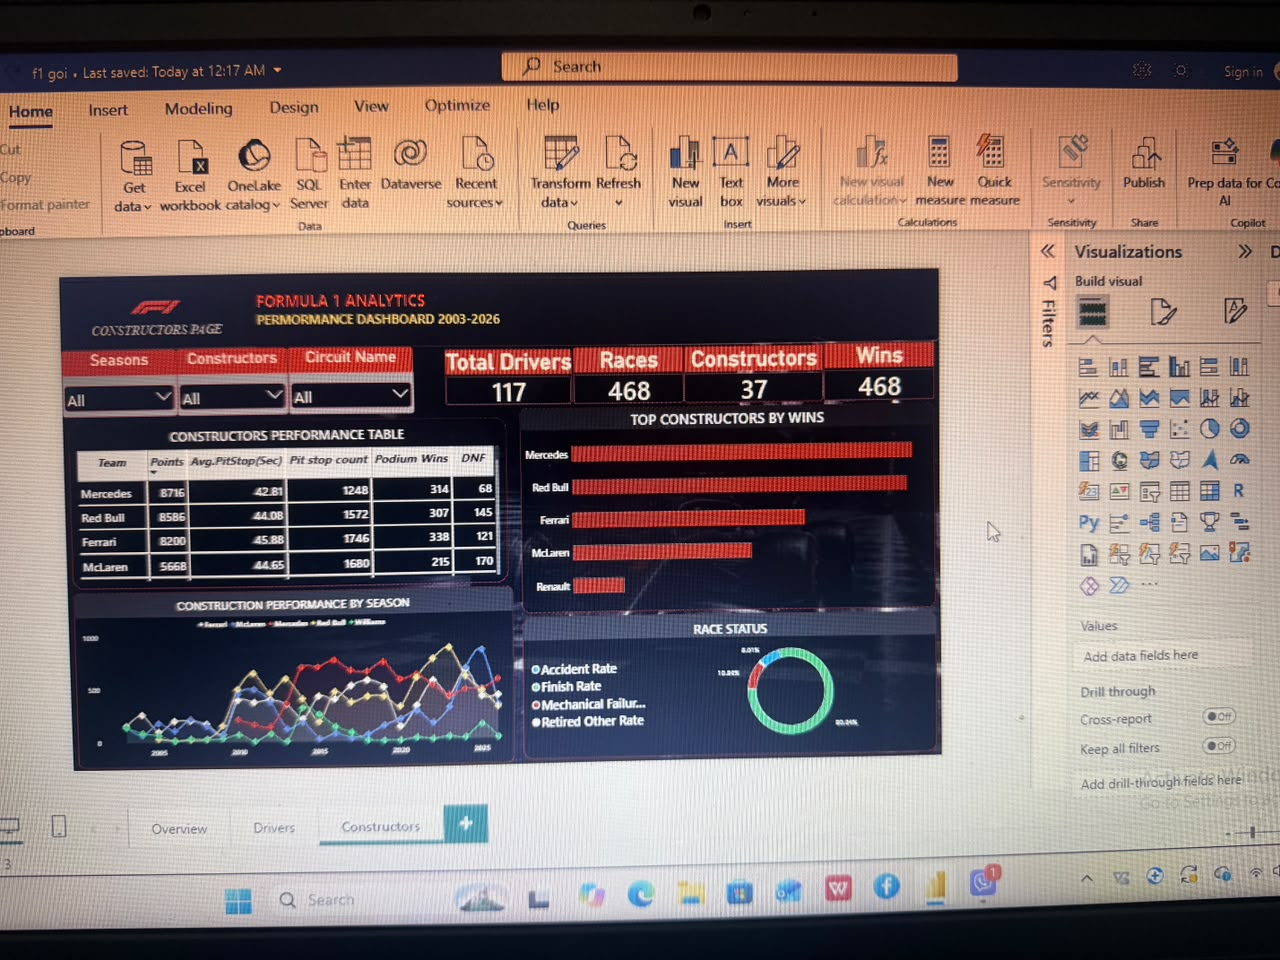

This screenshot's page, from the dashboard's own definition file:
{"tool":"powerbi","page":{"name":"Constructors","canvas":[1920,1080],"ordinal":2},"visuals":[{"type":"textbox","box":[0,10.8,1920.2,149],"z":0},{"type":"image","box":[25.9,0,369.4,164.2],"z":1000},{"type":"textbox","box":[58.3,101.5,306.7,62.6],"z":2000},{"type":"clusteredBarChart","title":"TOP CONSTRUCTORS BY WINS","fields":{"Category":["f1_main.constructor_name"],"Y":["f1_main.Total Wins"]},"box":[990,295,920,455],"z":3000},{"type":"slicer","title":"Seasons","fields":{"Values":["f1_main.season"]},"box":[0,159.8,252.7,144.7],"z":4000},{"type":"slicer","title":"Constructors","fields":{"Values":["f1_main.constructor_name"]},"box":[252.7,159.8,241.9,144.7],"z":5000},{"type":"shape","box":[394.7,21.1,1526.3,126.3],"z":7000},{"type":"textbox","box":[428.9,36.8,802.5,122.5],"z":8000},{"type":"cardVisual","title":"Races","fields":{"Data":["Count(f1_main.race_date)"]},"box":[1110,162.5,245,125],"z":9000},{"type":"cardVisual","title":"Total Drivers","fields":{"Data":["Count(f1_main.driver_name)"]},"box":[830,165,277.5,122.5],"z":10000},{"type":"cardVisual","title":" Constructors","fields":{"Data":["Count(f1_main.constructor_name)"]},"box":[1356,162,310,126],"z":11000},{"type":"cardVisual","title":"Wins","fields":{"Data":["Sum(f1_main.is_win)"]},"box":[1665,160,245,127.5],"z":12000},{"type":"donutChart","title":"RACE STATUS","fields":{"Y":["f1_main.Accident Rate","f1_main.Finish Rate","f1_main.Mechanical Failure Rate","f1_main.Retired Other Rate"]},"box":[990,757.5,920,312.5],"z":13000},{"type":"tableEx","title":"CONSTRUCTORS PERFORMANCE TABLE","fields":{"Values":["f1_main.constructor_name","f1_main.Total Points","f1_main.Average Pit Stop Time (sec)","Sum(f1_main.pit_stop_count)","Sum(f1_main.is_podium)","Sum(f1_main.is_dnf)"]},"box":[12.5,315,947.5,365],"z":14000},{"type":"lineChart","title":"CONSTRUCTION PERFORMANCE BY SEASON","fields":{"Category":["f1_main.season"],"Series":["f1_main.constructor_name"],"Y":["f1_main.Total Points"]},"box":[12.5,687.5,957.5,387.5],"z":15000},{"type":"pageNavigator","title":"VIEWING..","box":[1233.3,23.3,626.7,110],"z":15001},{"type":"slicer","title":"Circuit Country","fields":{"Values":["f1_main.circuit_country"]},"box":[494.6,160.7,241.9,144.7],"z":15002}]}

Visuals, with their boxes on the page's 1920x1080 design canvas (x1, y1, x2, y2). These are canvas units, not pixel positions in the 1280x960 screenshot, which may show the page scaled, cropped or inside an application window:
textbox: rect(0, 11, 1920, 160)
image: rect(26, 0, 395, 164)
textbox: rect(58, 102, 365, 164)
"TOP CONSTRUCTORS BY WINS" clusteredBarChart: rect(990, 295, 1910, 750)
"Seasons" slicer: rect(0, 160, 253, 304)
"Constructors" slicer: rect(253, 160, 495, 304)
shape: rect(395, 21, 1921, 147)
textbox: rect(429, 37, 1231, 159)
"Races" cardVisual: rect(1110, 162, 1355, 288)
"Total Drivers" cardVisual: rect(830, 165, 1108, 288)
" Constructors" cardVisual: rect(1356, 162, 1666, 288)
"Wins" cardVisual: rect(1665, 160, 1910, 288)
"RACE STATUS" donutChart: rect(990, 758, 1910, 1070)
"CONSTRUCTORS PERFORMANCE TABLE" tableEx: rect(12, 315, 960, 680)
"CONSTRUCTION PERFORMANCE BY SEASON" lineChart: rect(12, 688, 970, 1075)
"VIEWING.." pageNavigator: rect(1233, 23, 1860, 133)
"Circuit Country" slicer: rect(495, 161, 736, 305)
